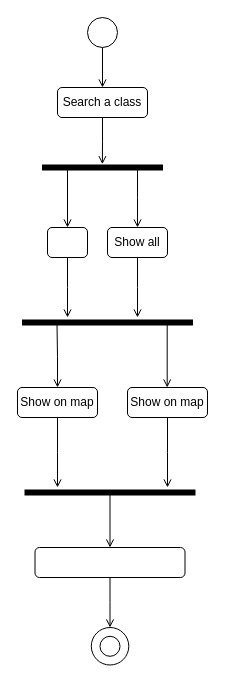
This 225x683 diagram has some shape labels left out. The shapes that lost their labels are listed below. From the top down, each one's centre as x and y in pixels, then its label:
the point at 67,242: Filter
the point at 109,562: Show relevant businesses
